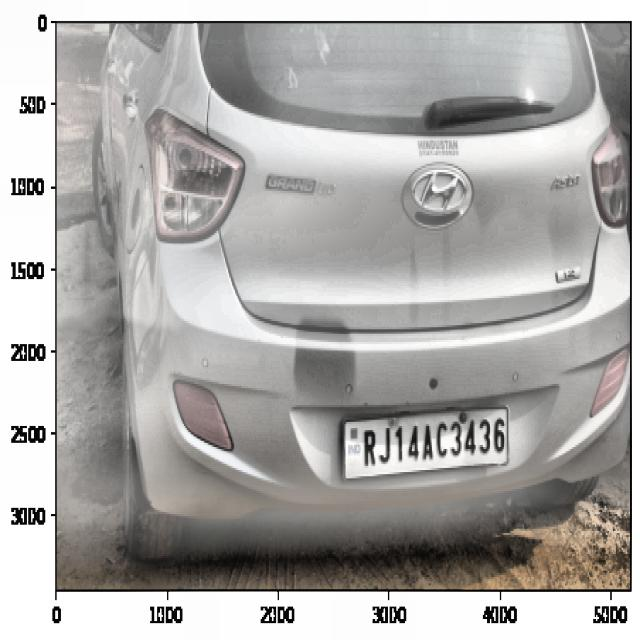license_plate: (354, 410, 510, 472)
